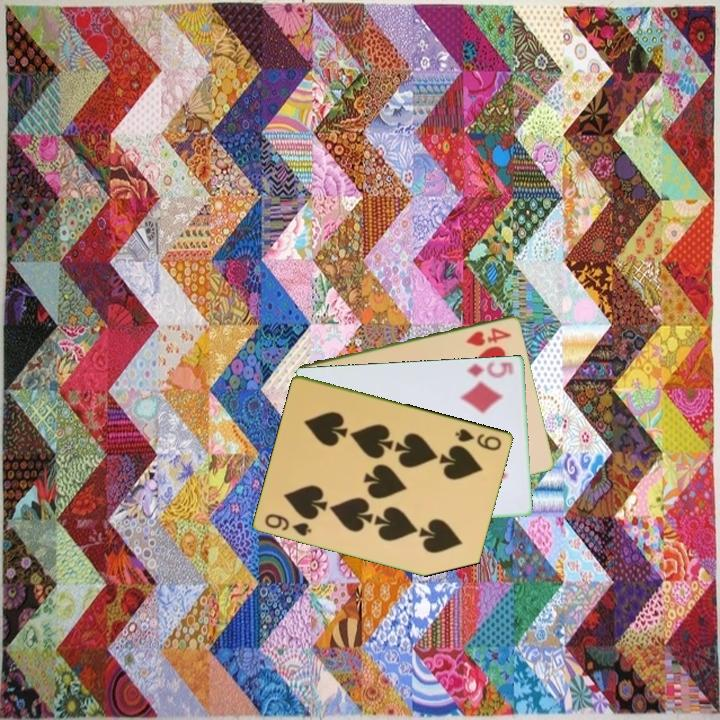4h: (462, 324, 514, 349)
5d: (464, 358, 518, 380)
9s: (261, 510, 315, 539), (452, 425, 505, 453)
